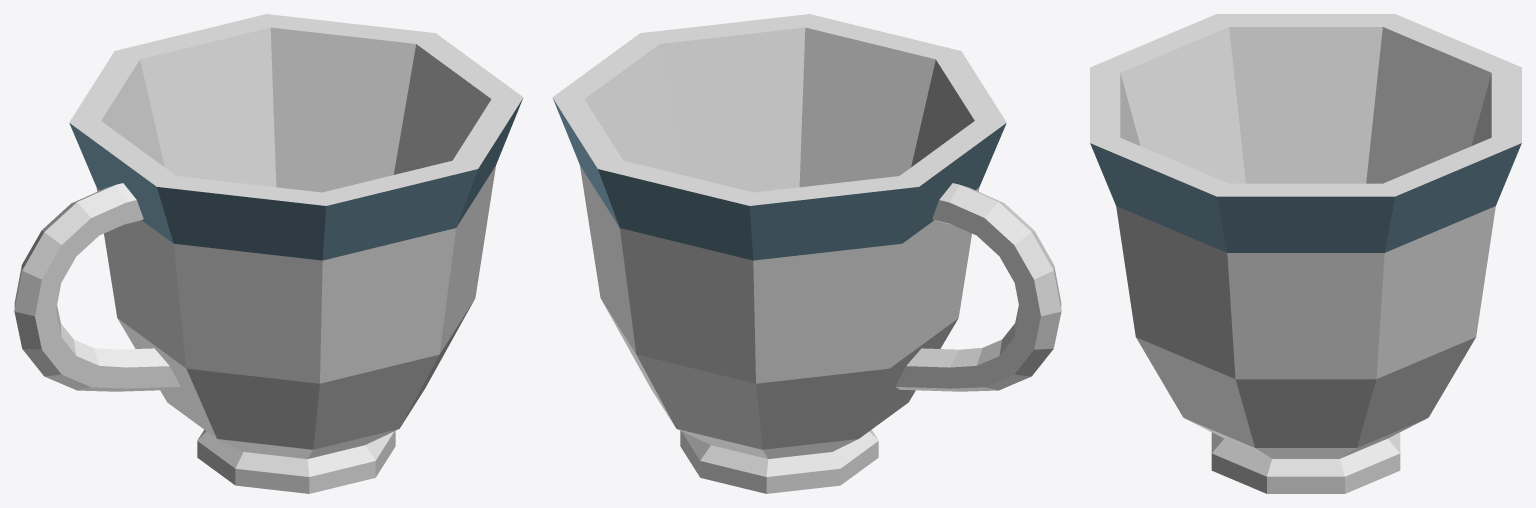
The model's file is Cup1_C2.fbx.
3 views of the same model, side by side, from view 1: azimuth 30°, elevation 25°; view 2: azimuth 150°, elevation 25°; view 3: azimuth 270°, elevation 25° (orthographic).
Parts seen in each view (by area): view 1: Cup1_C2; view 2: Cup1_C2; view 3: Cup1_C2.
Part boxes in pixels (x1,y1,x2,y2): Cup1_C2: (14,14,523,493); Cup1_C2: (552,14,1061,493); Cup1_C2: (1090,14,1521,493).
Size of the model in its own units: 14.44 by 10.14 by 11.38.
